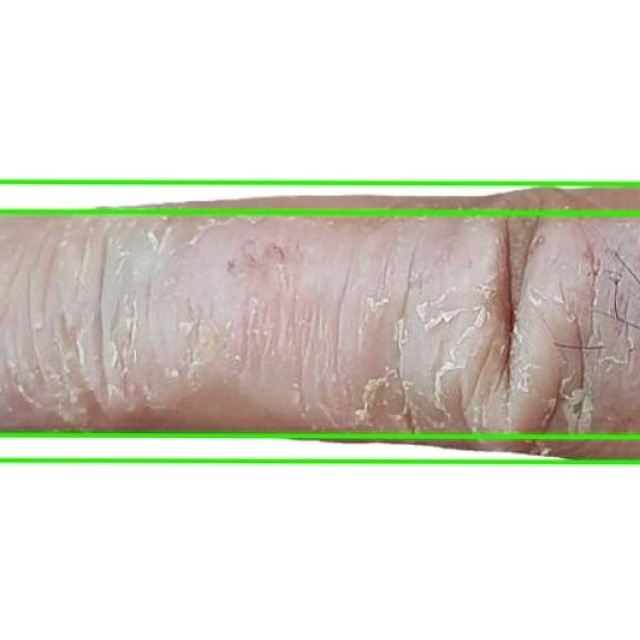Eczema: (0, 183, 639, 463), (0, 0, 639, 213), (0, 434, 639, 639)
